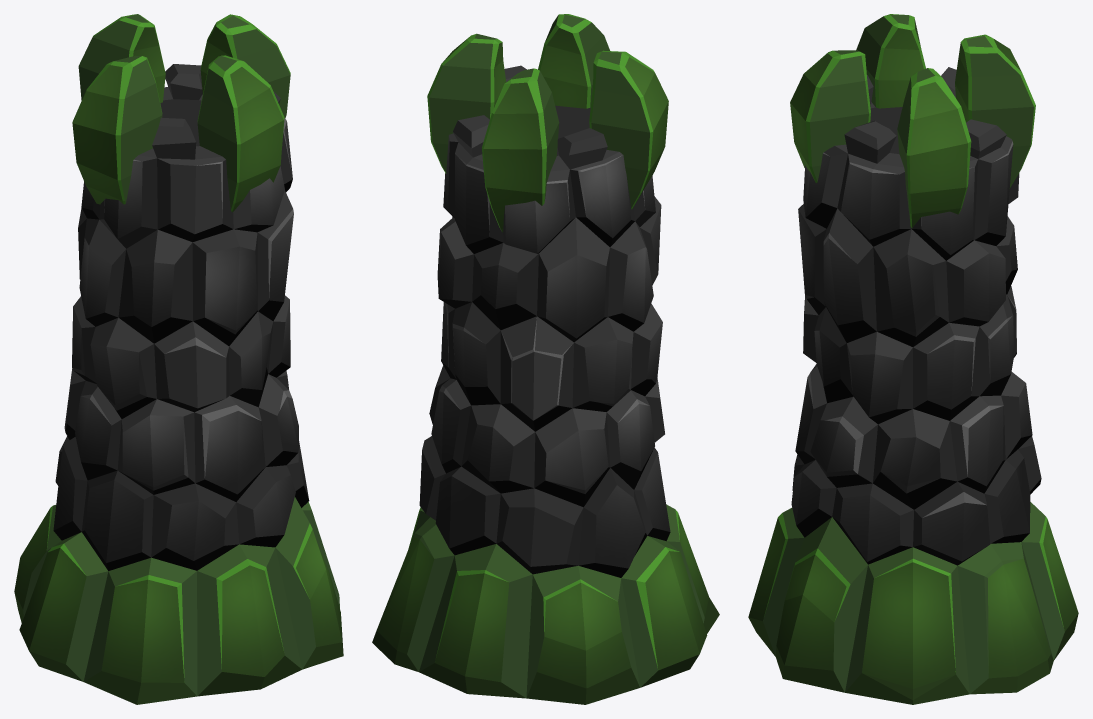
The model's file is Runestrife-Tower-Stone.fbx.
The picture shows the model from 3 angles, left to right: view 1: azimuth 30°, elevation 25°; view 2: azimuth 150°, elevation 25°; view 3: azimuth 270°, elevation 25°; orthographic projection.
Parts seen in each view (by area): view 1: Cylinder; view 2: Cylinder; view 3: Cylinder.
Boxes of the visible parts, <box> form: Cylinder: <box>14,14,343,704</box>; Cylinder: <box>372,14,719,704</box>; Cylinder: <box>748,14,1078,704</box>.
Bounding box in the file's own units: 251 × 470 × 239.
